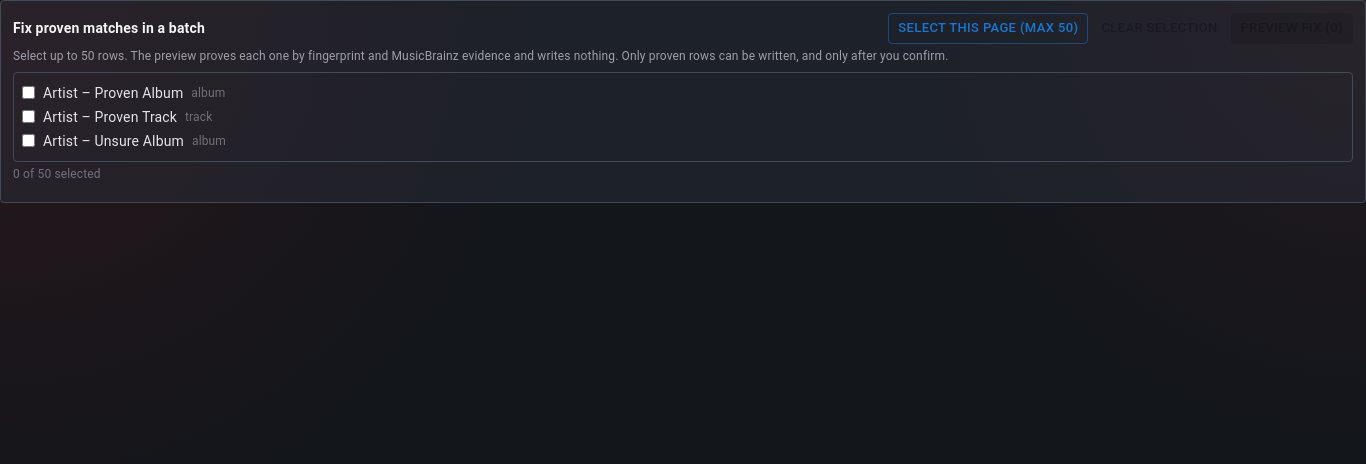
Scenario: Missing IDs batch: #399 faab2cf reasons, duplicate evidence, restart › shows who holds the release group and duplicates within the batch
Click the button "Select this page (max 50)": (988,28) [888,13,1088,44]
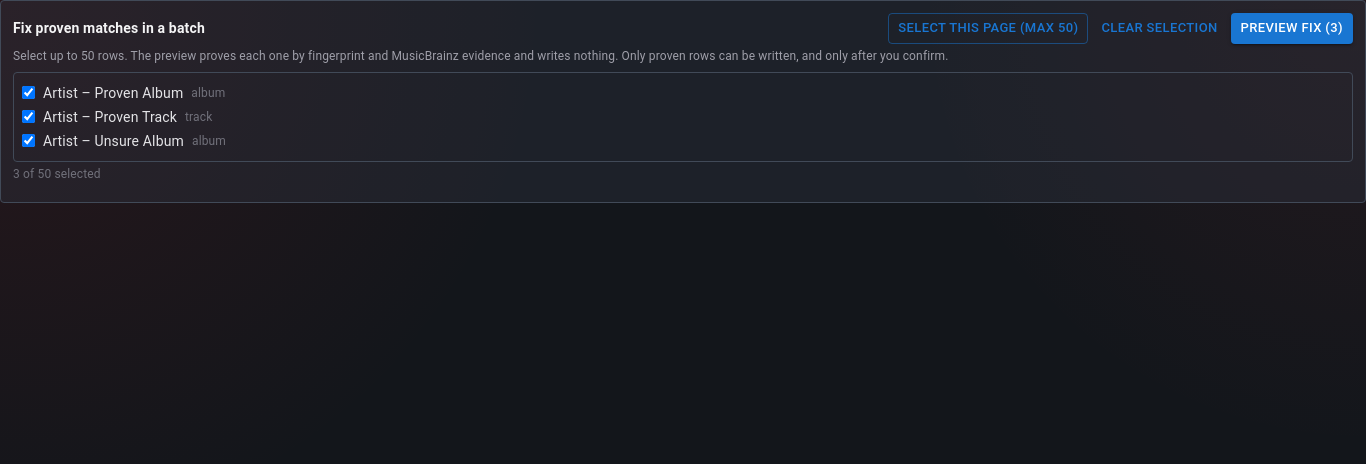
Click the button "Preview fix (3)": (1292,28) [1231,13,1353,44]
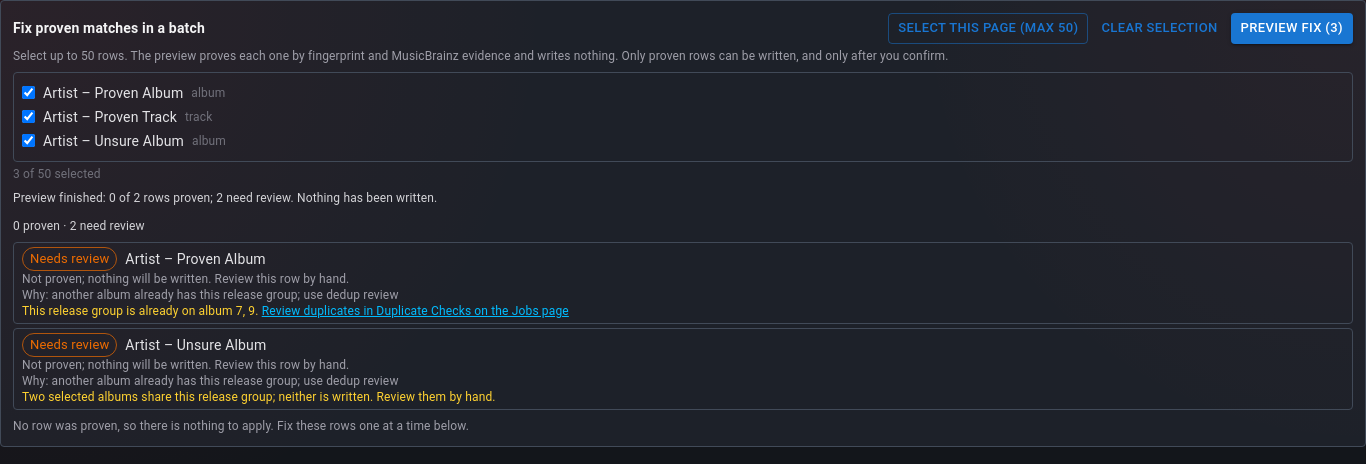
Expected: the text "already on album 7, 9" is shown, [22,304,569,318]
Expected: the text "Two selected albums share this release group" is shown, [22,390,496,404]
Expected: the text "use dedup review" is shown 2 times, [22,288,399,302]; [22,374,399,388]
